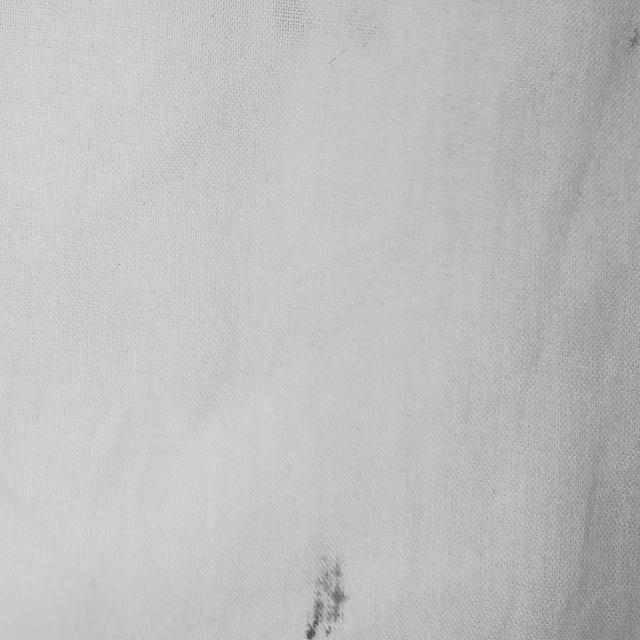Stain: (306, 557, 347, 640), (628, 24, 640, 49)
